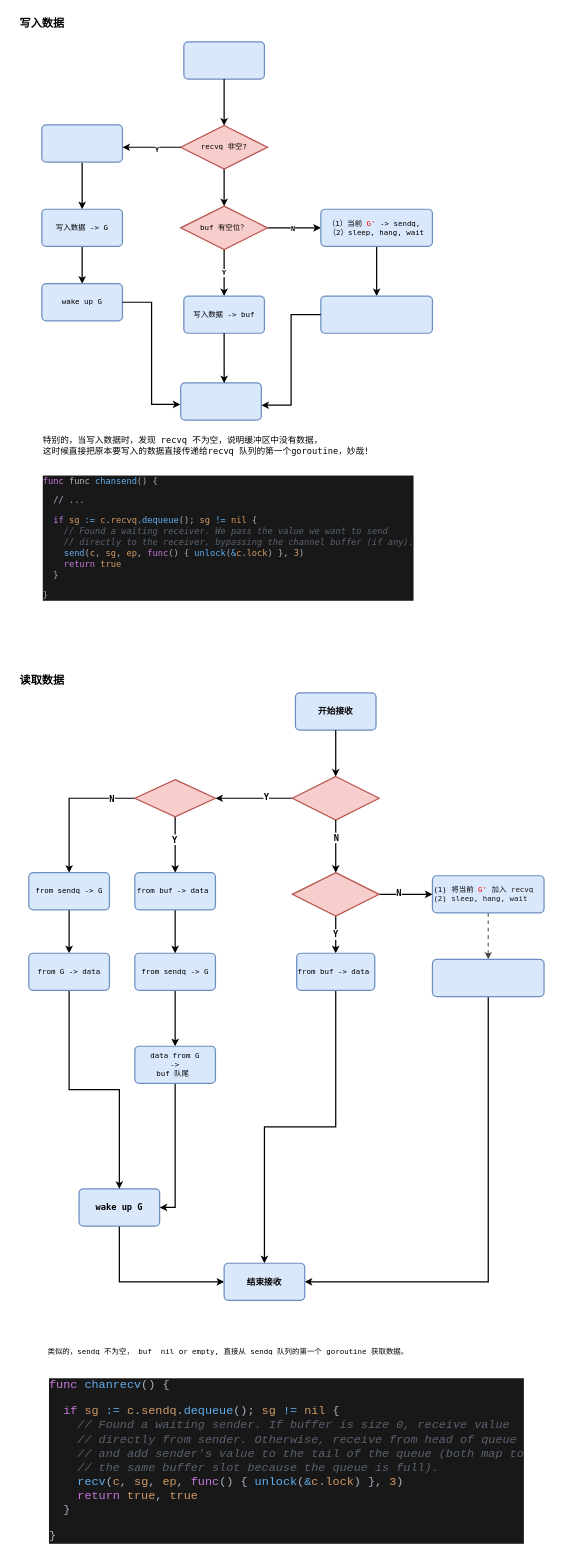
This 567x1566 diagram has some shape labels left out. The shapes that lost their labels are listed below. From the top down, each one's centre as x and y in pixels, then its label:
At [224,60]: "开始发送".
At [82,143]: "G = recvq.Pop()".
At [376,314]: "（1）取走 G' 的数据 （2）wake up G'".
At [221,401]: "结束发送".
At [175,798]: "BUF != 0?".
At [335,798]: "sendq 非空？".
At [335,894]: "qcount > 0?".
At [488,978]: "（1）data -> G' 的数据 （2）wake up G'".
